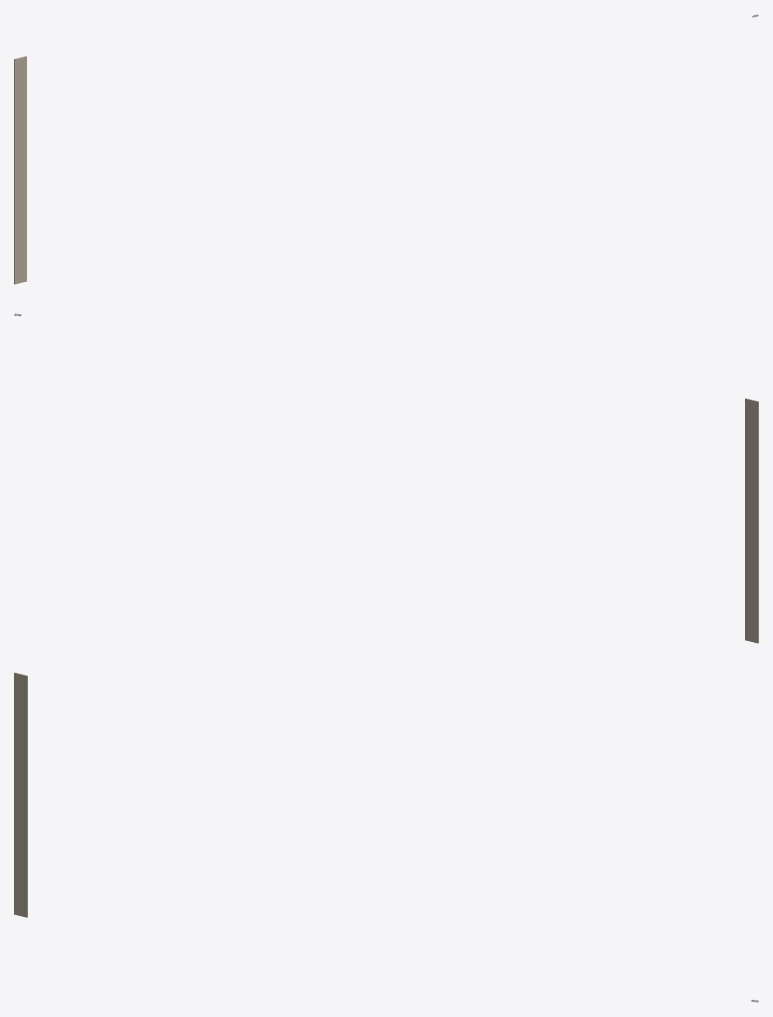
File: PBtorreInnovacion.glb
3 renders of one model, top to bottom at view 1: azimuth 30°, elevation 25°; view 2: azimuth 150°, elevation 25°; view 3: azimuth 330°, elevation 25°, orthographic. The views are drawn at different scales.
Visible parts, largest first — view 1: Box2636.001; view 2: Box2636.001; view 3: Box2636.001.
Part boxes in pixels (x1=…): Box2636.001: x1=14, y1=56, x2=26, y2=284; Box2636.001: x1=745, y1=398, x2=758, y2=643; Box2636.001: x1=14, y1=672, x2=27, y2=917.
Bounding box in the file's own units: 11663 × 3491 × 756.
